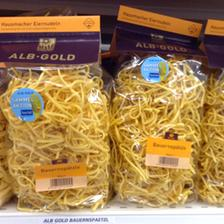Nudeln: (0, 14, 112, 210), (110, 4, 206, 208)
